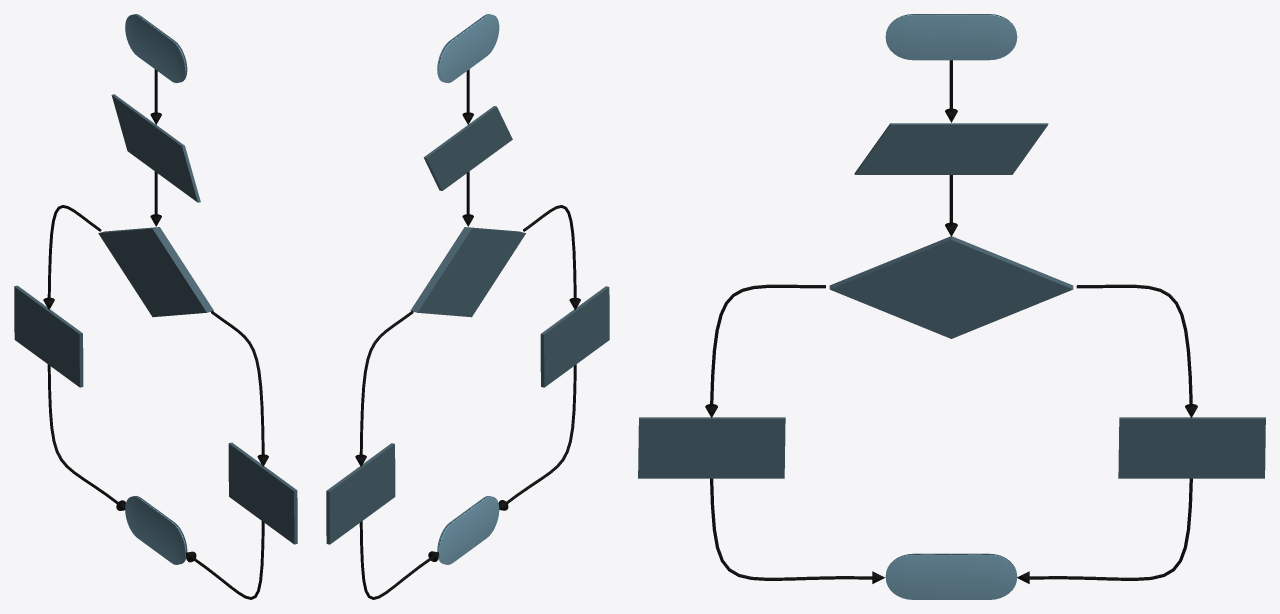
Rendered from Flowchart.fbx.
The picture shows the model from 3 angles, left to right: view 1: azimuth 30°, elevation 25°; view 2: azimuth 150°, elevation 25°; view 3: azimuth 270°, elevation 25°; orthographic projection. The views are drawn at different scales.
Visible parts, largest first — view 1: Cube.001, Cube.003, Cube.002, Cube, Cylinder, Cylinder.001, BezierCurve.003, BezierCurve.002; view 2: Cube.001, Cube.003, Cube.002, Cube, Cylinder, Cylinder.001, BezierCurve.003, BezierCurve.002; view 3: Cube.001, Cube.003, Cube.002, Cube, Cylinder, Cylinder.001, BezierCurve.003, BezierCurve.002.
Boxes of the visible parts, <box> form: Cube.001: <box>98,227,213,317</box>; Cube.003: <box>14,285,83,387</box>; Cube.002: <box>228,442,297,544</box>; Cube: <box>111,94,200,202</box>; Cylinder: <box>125,14,187,83</box>; Cylinder.001: <box>125,496,187,564</box>; BezierCurve.003: <box>47,364,264,599</box>; BezierCurve.002: <box>47,205,264,457</box>; Cube.001: <box>410,227,525,317</box>; Cube.003: <box>326,443,395,544</box>; Cube.002: <box>540,286,609,387</box>; Cube: <box>423,106,512,190</box>; Cylinder: <box>437,14,499,82</box>; Cylinder.001: <box>437,496,499,564</box>; BezierCurve.003: <box>359,364,576,599</box>; BezierCurve.002: <box>359,205,576,457</box>; Cube.001: <box>829,236,1073,338</box>; Cube.003: <box>1118,417,1265,478</box>; Cube.002: <box>638,417,785,478</box>; Cube: <box>854,123,1048,174</box>; Cylinder: <box>885,14,1017,60</box>; Cylinder.001: <box>885,553,1017,599</box>; BezierCurve.003: <box>710,478,1192,580</box>; BezierCurve.002: <box>710,284,1192,407</box>.
Size of the model in its own units: 47 by 2336 by 2276.
